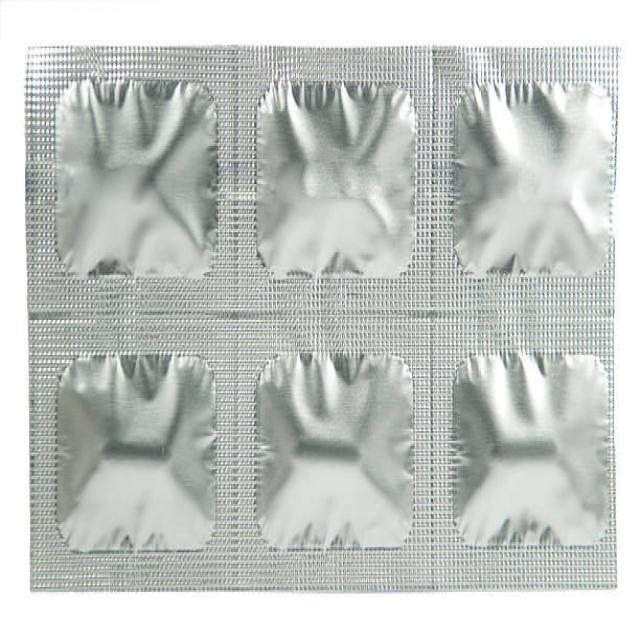Pill: (43, 62, 224, 297), (246, 61, 425, 296), (436, 60, 615, 292), (250, 330, 425, 559), (438, 339, 615, 564), (42, 342, 220, 562)
